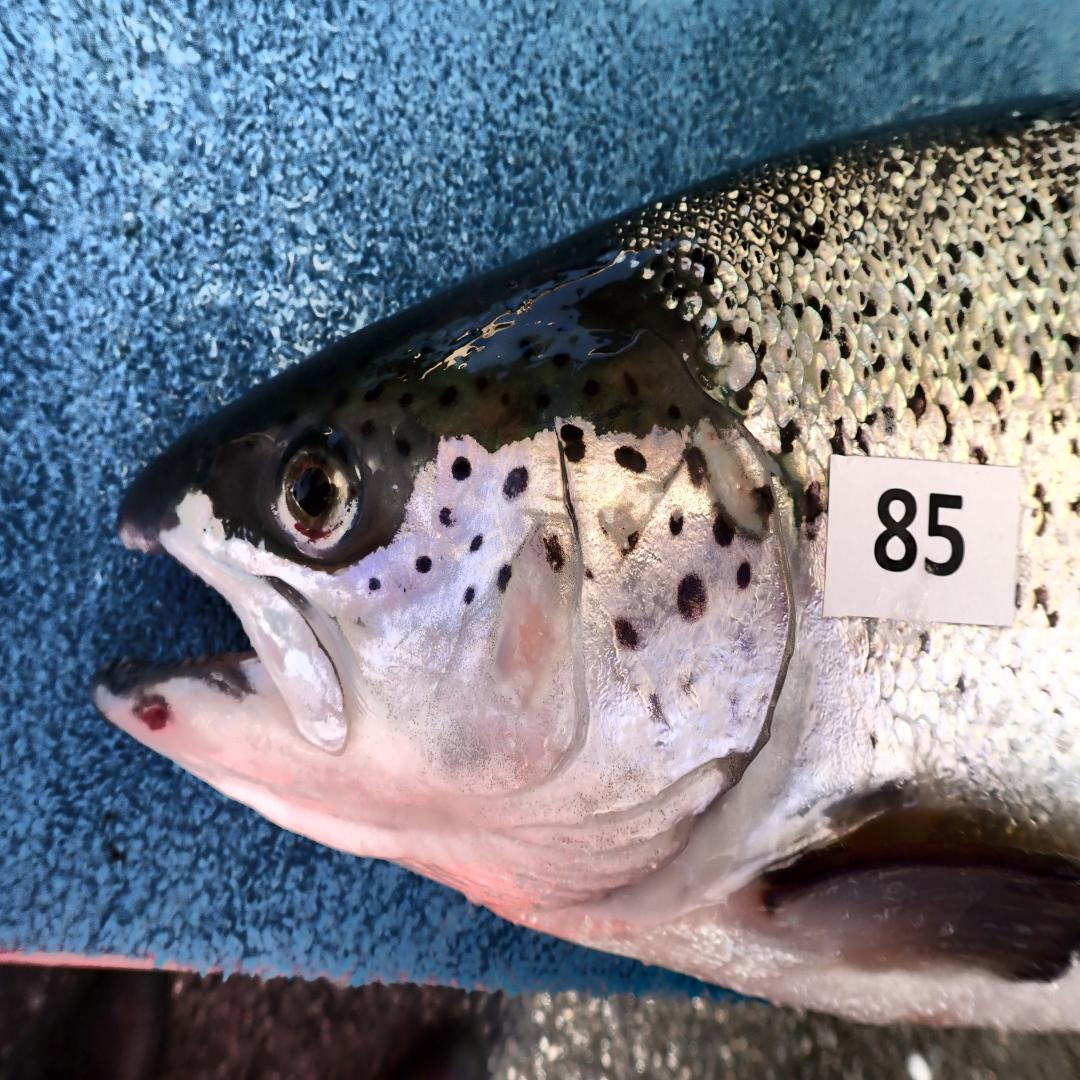spot: (598, 504, 648, 557), (677, 574, 707, 622), (750, 483, 775, 526), (561, 425, 586, 462), (684, 446, 707, 485), (542, 533, 564, 573), (614, 444, 645, 472), (614, 618, 639, 650), (504, 467, 527, 498), (713, 515, 734, 546), (451, 456, 470, 481), (737, 563, 752, 590), (498, 565, 513, 591), (740, 634, 756, 658), (669, 510, 683, 534), (649, 694, 662, 719), (684, 672, 698, 695), (416, 557, 432, 574), (439, 506, 451, 526), (470, 534, 483, 551), (464, 585, 475, 605), (369, 578, 381, 591), (584, 568, 594, 580), (730, 696, 737, 709)
